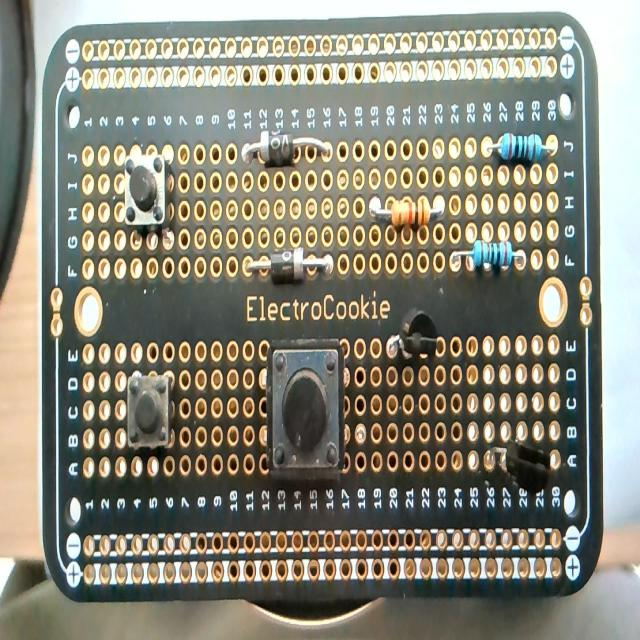diode: (240, 129, 332, 167), (247, 247, 336, 281)
resistor: (367, 196, 444, 231), (450, 241, 526, 274), (485, 132, 553, 162)
switch: (267, 341, 346, 476), (126, 370, 174, 451), (123, 151, 167, 227)
transistor: (486, 438, 552, 498), (384, 306, 439, 370)
